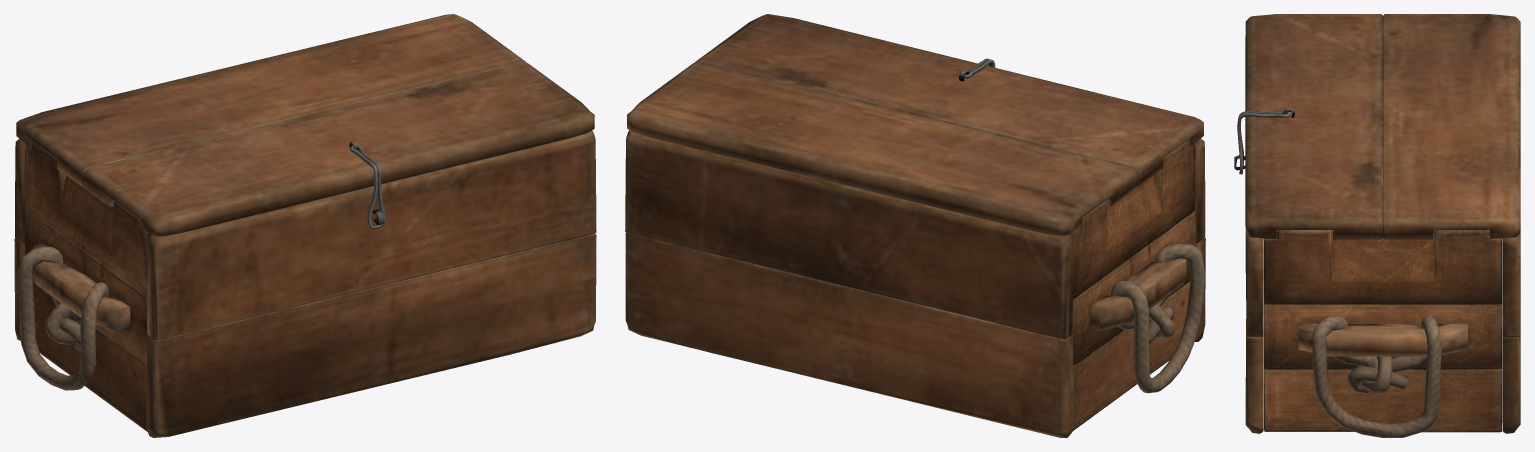
File: crate.glb
The picture shows the model from 3 angles, left to right: view 1: azimuth 30°, elevation 25°; view 2: azimuth 150°, elevation 25°; view 3: azimuth 270°, elevation 25°; orthographic projection. The views are drawn at different scales.
Visible parts, largest first — view 1: wooden_crate_01, wooden_crate_01_lid, wooden_crate_01_latch; view 2: wooden_crate_01, wooden_crate_01_lid; view 3: wooden_crate_01_lid, wooden_crate_01, wooden_crate_01_latch.
Part boxes in pixels (x1,y1,x2,y2): wooden_crate_01: (14, 131, 596, 437); wooden_crate_01_lid: (16, 14, 594, 236); wooden_crate_01_latch: (350, 145, 385, 229); wooden_crate_01: (625, 130, 1205, 437); wooden_crate_01_lid: (627, 14, 1203, 236); wooden_crate_01_lid: (1245, 14, 1520, 239); wooden_crate_01: (1234, 155, 1520, 437); wooden_crate_01_latch: (1237, 111, 1290, 174).
Bounding box in the file's own units: 0.8245 × 0.3495 × 0.4072.
1 material, 1 textured.
